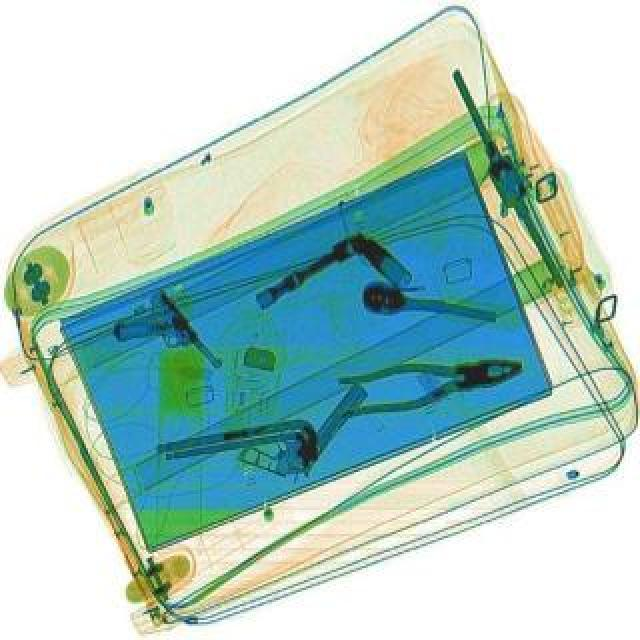gun: (232, 354, 368, 494), (106, 286, 228, 402)
wrench: (334, 344, 526, 422)
